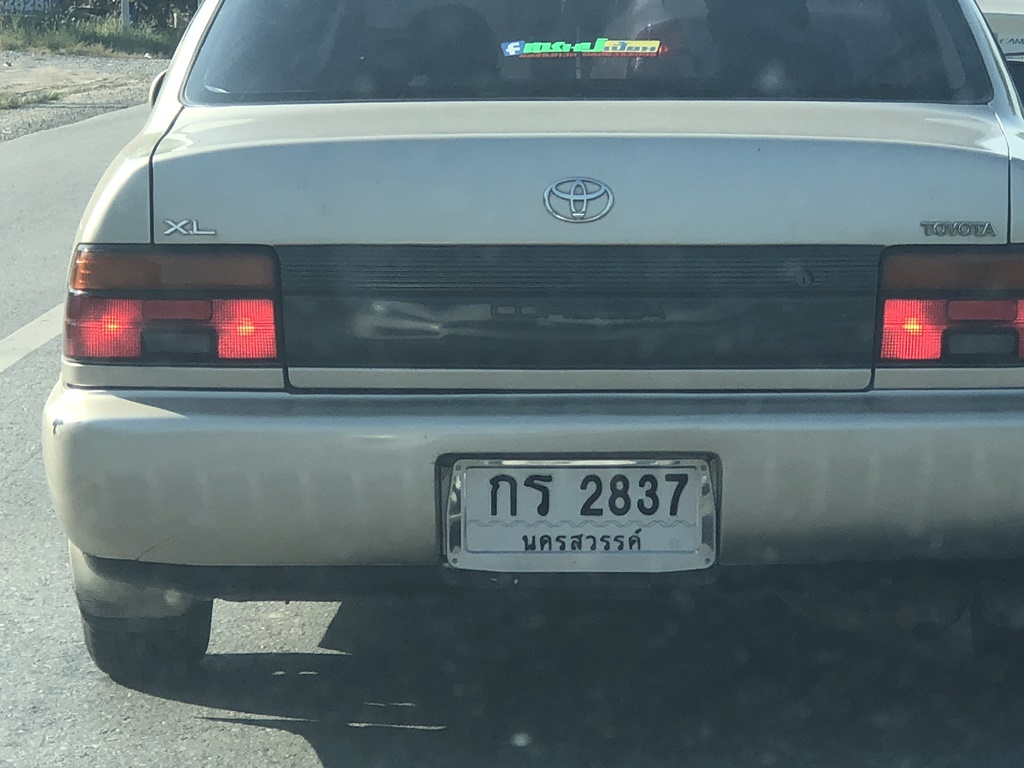eight: (599, 467, 641, 524)
seven: (660, 466, 693, 524)
three: (632, 469, 663, 518)
